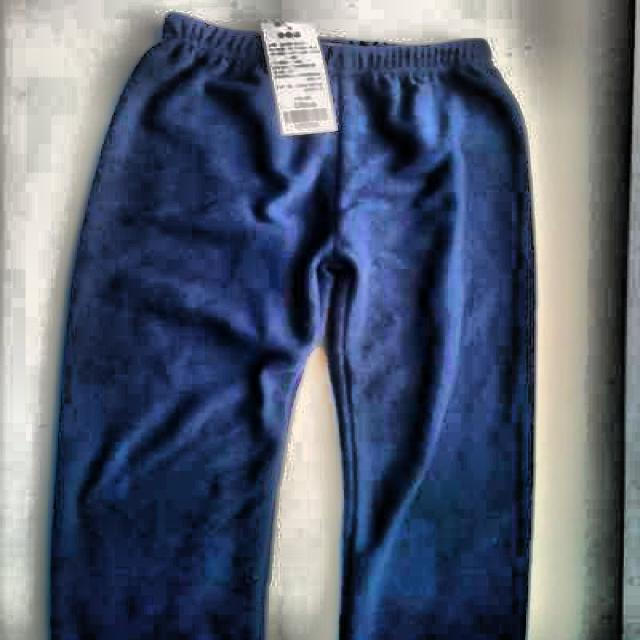clothes: (50, 11, 536, 640)
